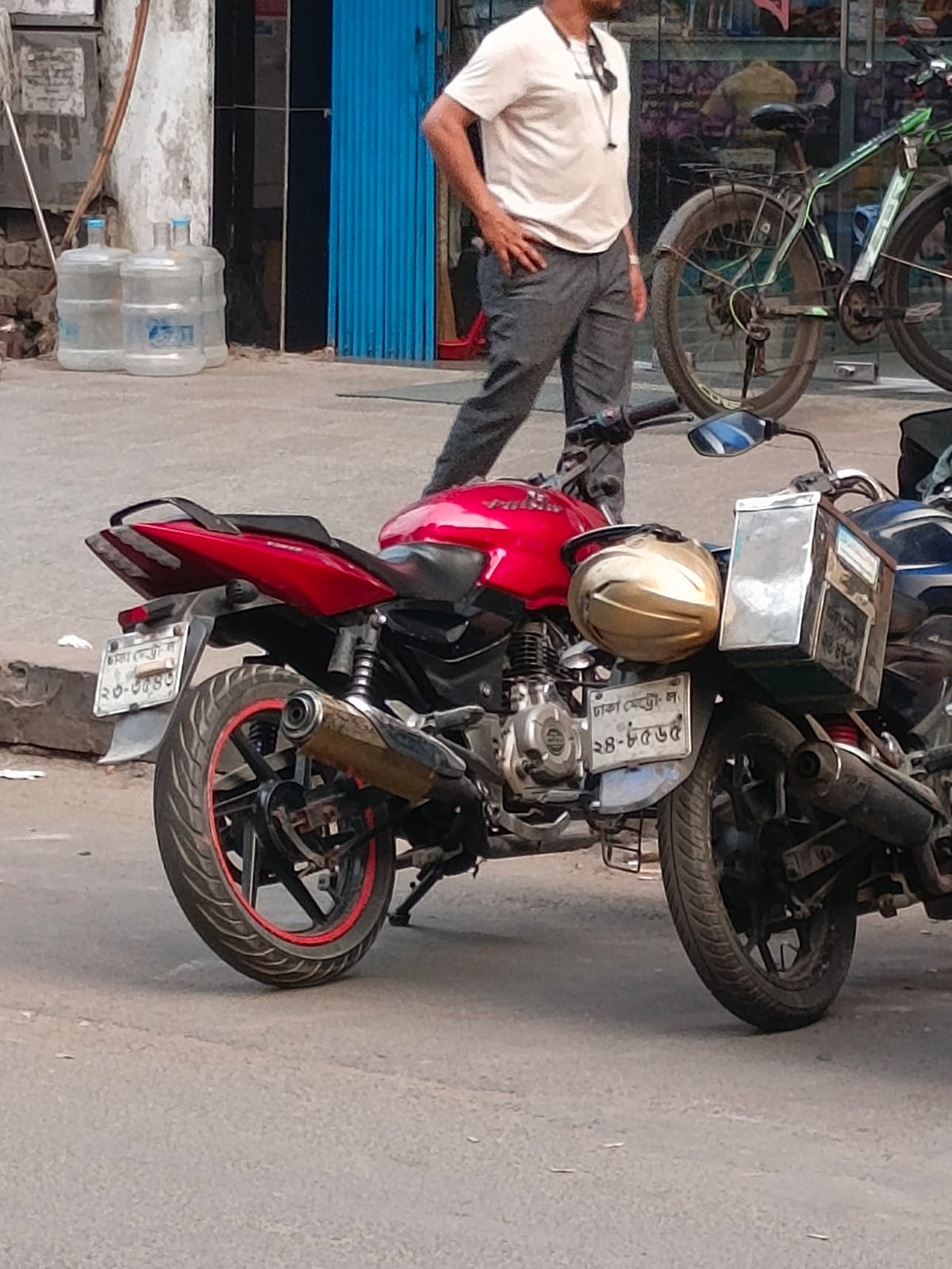Bikes: (11, 260, 751, 1027), (656, 281, 952, 1063), (669, 43, 952, 407)
